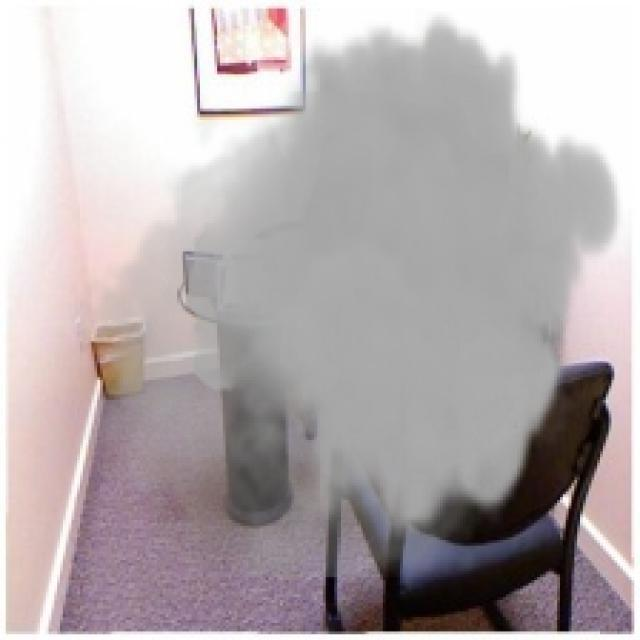Smoke: (69, 11, 626, 578)
